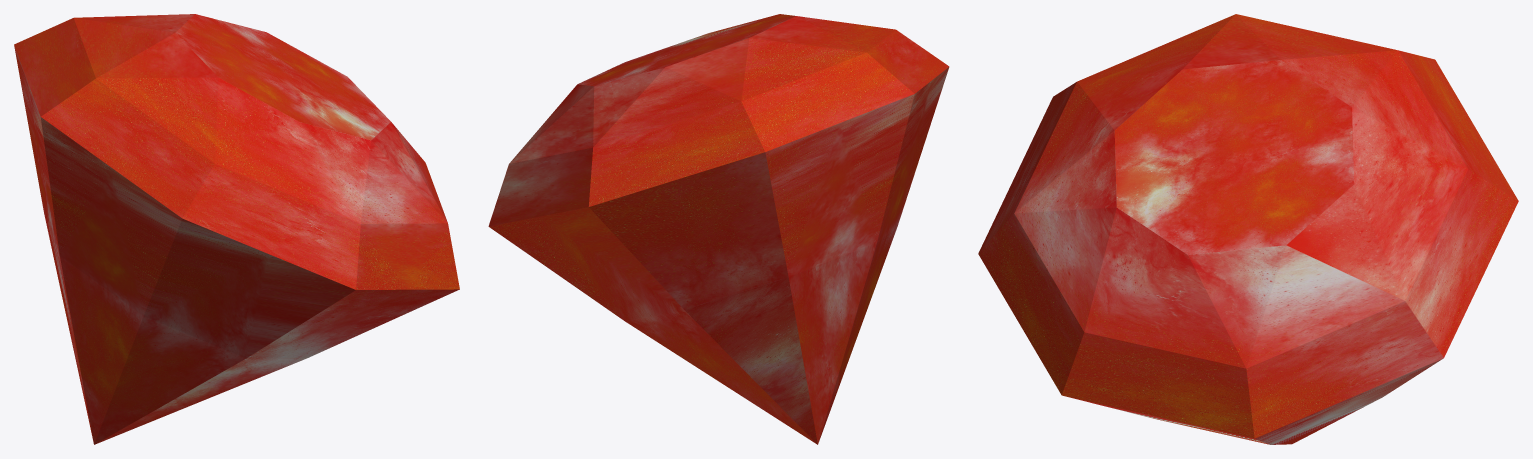
Rendered from diamond-shape.gltf.
3 renders of one model, left to right at view 1: azimuth 30°, elevation 25°; view 2: azimuth 150°, elevation 25°; view 3: azimuth 270°, elevation 25°, orthographic. The views are drawn at different scales.
Parts seen in each view (by area): view 1: dimond; view 2: dimond; view 3: dimond.
Boxes of the visible parts, left/top/right/bottom form: dimond: left=14, top=14, right=459, bottom=444; dimond: left=488, top=14, right=949, bottom=444; dimond: left=978, top=14, right=1518, bottom=444.
Size of the model in its own units: 8.17 by 7.79 by 9.
